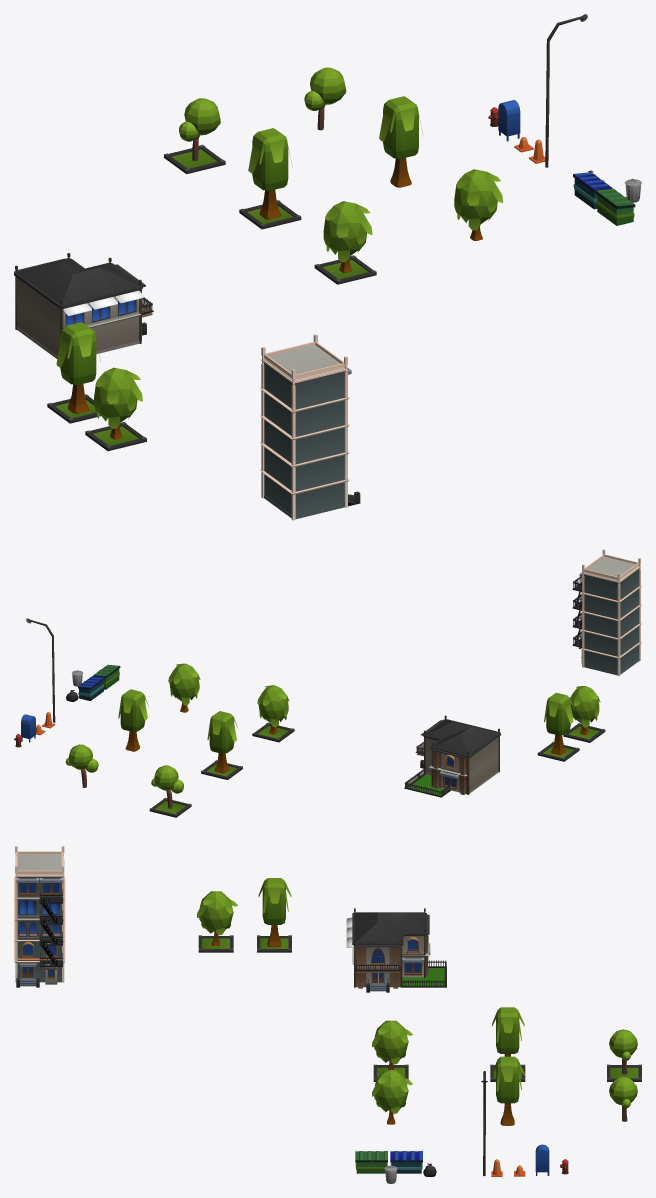
File: Decoor.glb
3 renders of one model, top to bottom at view 1: azimuth 30°, elevation 25°; view 2: azimuth 150°, elevation 25°; view 3: azimuth 270°, elevation 25°, orthographic. The views are drawn at different scales.
Parts seen in each view (by area): view 1: Residential4, Mansion, FencedTree2, FencedTree, Tree2, FencedTree3, Tree1, Leaves, Leaves.001, Tree3, Garbage2, Garbage1 (+1 smaller); view 2: Residential4, Mansion, FencedTree2, FencedTree, Tree2, FencedTree3, Tree1, Leaves.001, Leaves, Tree3, Garbage1, Garbage2; view 3: Residential4, Mansion, FencedTree, Tree2, FencedTree2, Tree1, Leaves, FencedTree3, Leaves.001, Tree3, Garbage2, Garbage1.
Part boxes in pixels (x1,y1,x2,y2): Residential4: [260, 334, 360, 520]; Mansion: [14, 253, 153, 358]; FencedTree2: [239, 128, 301, 229]; FencedTree: [314, 201, 376, 284]; Tree2: [379, 96, 423, 187]; FencedTree3: [164, 98, 225, 174]; Tree1: [454, 169, 503, 240]; Leaves: [94, 367, 142, 428]; Leaves.001: [56, 322, 100, 384]; Tree3: [304, 67, 346, 130]; Garbage2: [595, 189, 635, 225]; Garbage1: [573, 172, 612, 209]; Residential4: [572, 549, 641, 676]; Mansion: [404, 715, 501, 797]; FencedTree2: [201, 711, 242, 779]; FencedTree: [252, 685, 294, 742]; Tree2: [118, 689, 148, 751]; FencedTree3: [149, 765, 191, 817]; Tree1: [168, 663, 200, 712]; Leaves.001: [544, 692, 574, 735]; Leaves: [570, 686, 600, 727]; Tree3: [65, 744, 98, 787]; Garbage1: [78, 676, 104, 700]; Garbage2: [93, 664, 120, 689]; Residential4: [14, 846, 65, 987]; Mansion: [346, 908, 446, 992]; FencedTree: [372, 1020, 412, 1081]; Tree2: [492, 1056, 524, 1125]; FencedTree2: [490, 1007, 525, 1081]; Tree1: [372, 1070, 412, 1124]; Leaves: [197, 891, 237, 935]; FencedTree3: [607, 1029, 641, 1081]; Leaves.001: [258, 878, 291, 924]; Tree3: [609, 1076, 637, 1121]; Garbage2: [355, 1151, 387, 1173]; Garbage1: [390, 1151, 422, 1173].
Bounding box in the file's own units: 50.84 × 11.3 × 53.83.
Materials: 2 (1 with a texture image).
